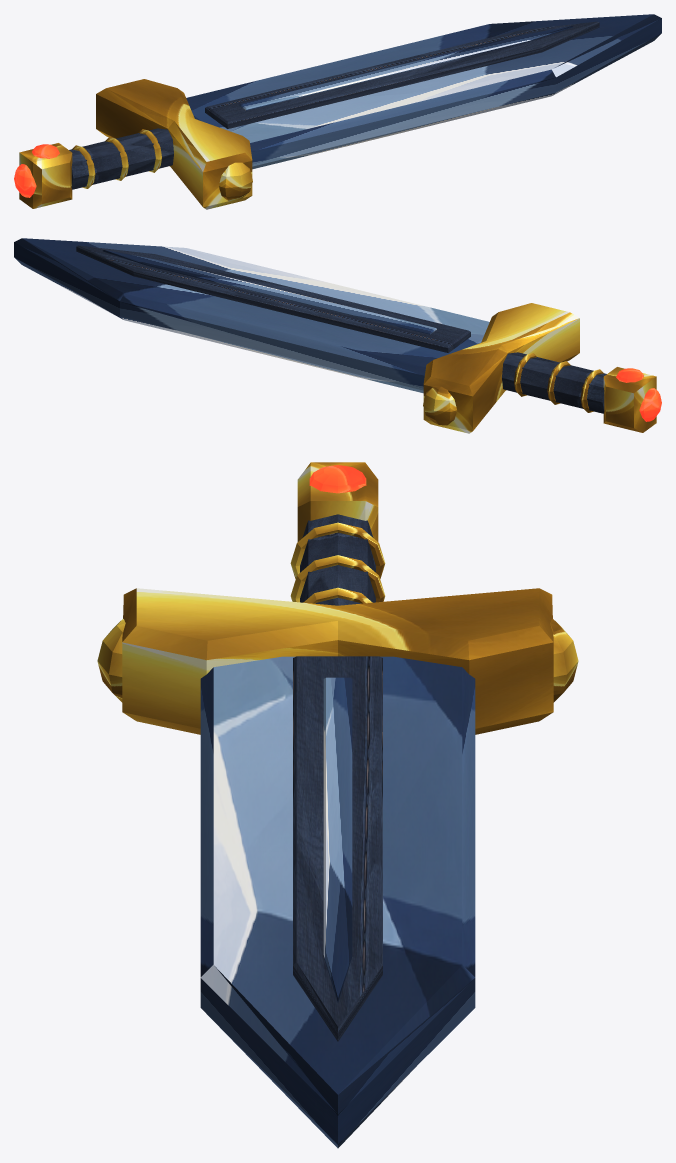
Rendered from brand.glb.
3 views of the same model, one above another, from view 1: azimuth 30°, elevation 25°; view 2: azimuth 150°, elevation 25°; view 3: azimuth 270°, elevation 25° (orthographic). The views are drawn at different scales.
Parts seen in each view (by area): view 1: Knight_Brand; view 2: Knight_Brand; view 3: Knight_Brand.
Boxes of the visible parts, x1=… form: Knight_Brand: x1=14, y1=14, x2=661, y2=209; Knight_Brand: x1=14, y1=238, x2=661, y2=433; Knight_Brand: x1=97, y1=462, x2=578, y2=1148.
Size of the model in its own units: 1.26 by 0.0995 by 0.406.
4 materials, 4 textured.
